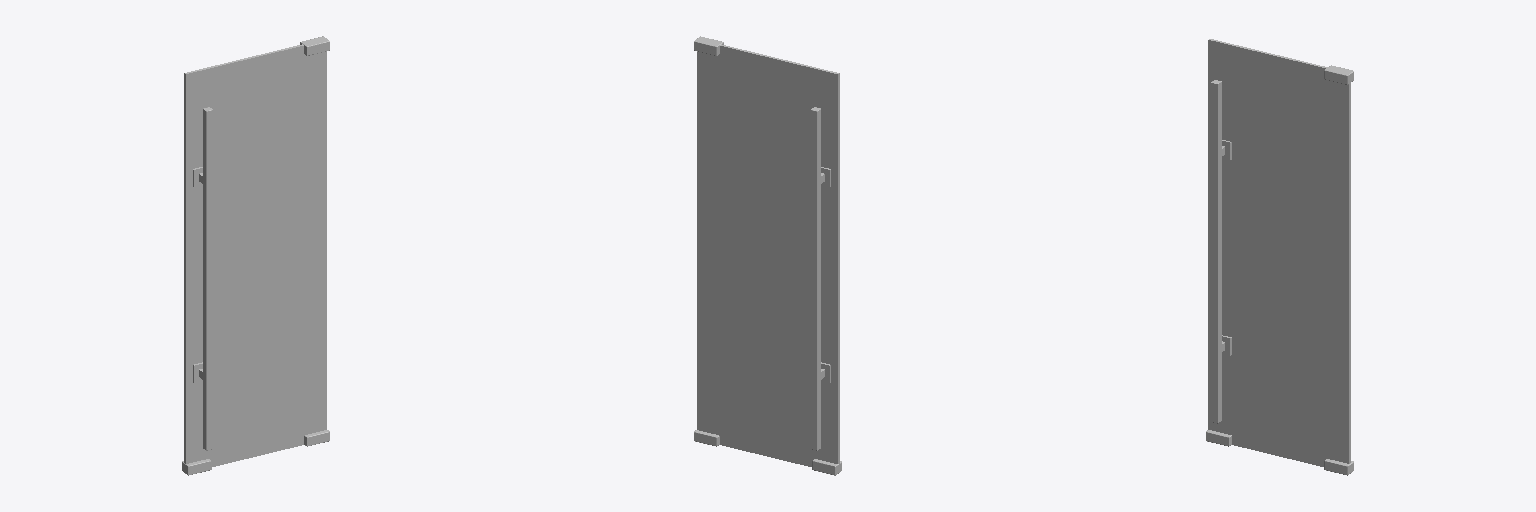
Rendered from puertaPrincipal.obj.
3 views of the same model, side by side, from view 1: azimuth 30°, elevation 25°; view 2: azimuth 150°, elevation 25°; view 3: azimuth 330°, elevation 25° (orthographic).
Visible parts, largest first — view 1: polySurface44; view 2: polySurface44; view 3: polySurface44.
Boxes of the visible parts, box(x1,y1,x2,y2) form: polySurface44: box(182, 36, 329, 475); polySurface44: box(694, 36, 841, 475); polySurface44: box(1206, 39, 1353, 475).
Size of the model in its own units: 3.91 by 10.51 by 0.9374.